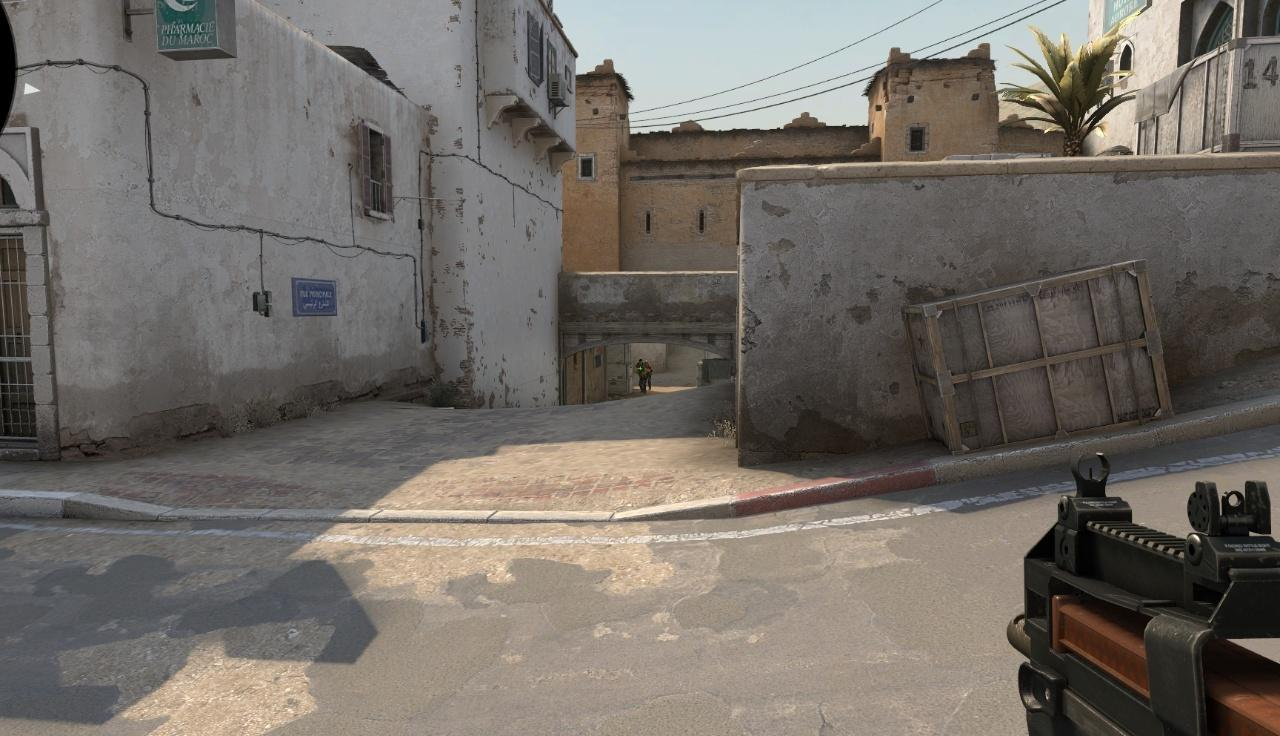rifle: (1007, 451, 1280, 736)
tt: (644, 360, 653, 391), (638, 366, 646, 394), (636, 359, 644, 367)
tthead: (640, 366, 644, 371), (645, 361, 648, 366), (639, 359, 642, 363)
